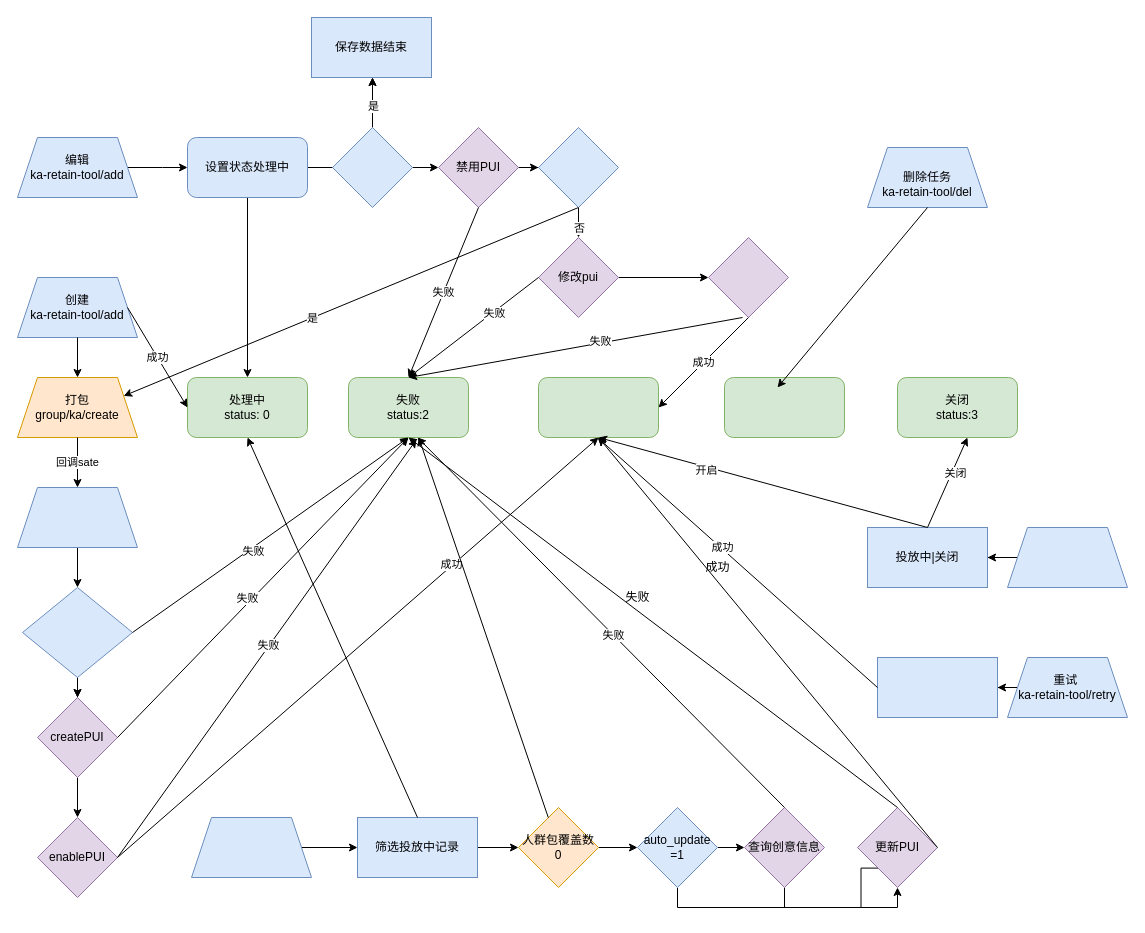
Image size: 1145x933. Some labels were removed from this diagram. The centre of each missing label's shape, as x and y in pixels:
"coverage_number = 0" goes at (x=77, y=632).
"任务开关 ka-retain-tool/switch" goes at (x=1067, y=557).
"修改人群包信息" goes at (x=578, y=167).
"删除 status:-1" goes at (x=784, y=407).
"启用pui" goes at (x=748, y=277).
"失败状态" goes at (x=937, y=687).
"当前任务为失败状态" goes at (x=372, y=167).
"打包成功回调 ka-retain-tool/package-success" goes at (x=77, y=517).
"投放中 status:1" goes at (x=598, y=407).
"自动更新脚本 ka-retain-tool/auto-update" goes at (x=251, y=847).
